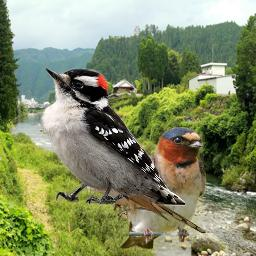Cuckoo: (83, 179, 206, 234)
Swallow: (118, 127, 208, 250)
Woodpecker: (40, 68, 185, 206)
